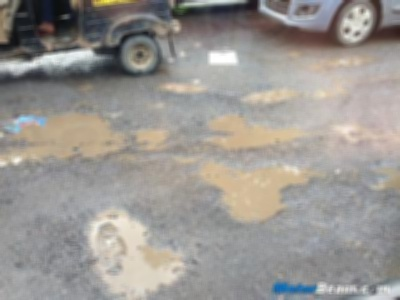pothole: (77, 200, 189, 298), (0, 103, 130, 169), (193, 154, 311, 225), (202, 109, 310, 148), (242, 82, 299, 103), (130, 122, 171, 149), (367, 162, 399, 194), (157, 79, 208, 95)
